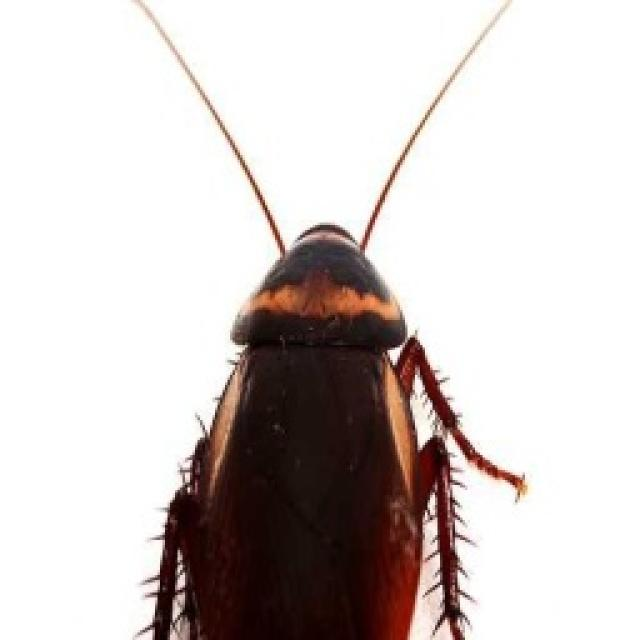cockroach: (136, 218, 531, 638)
